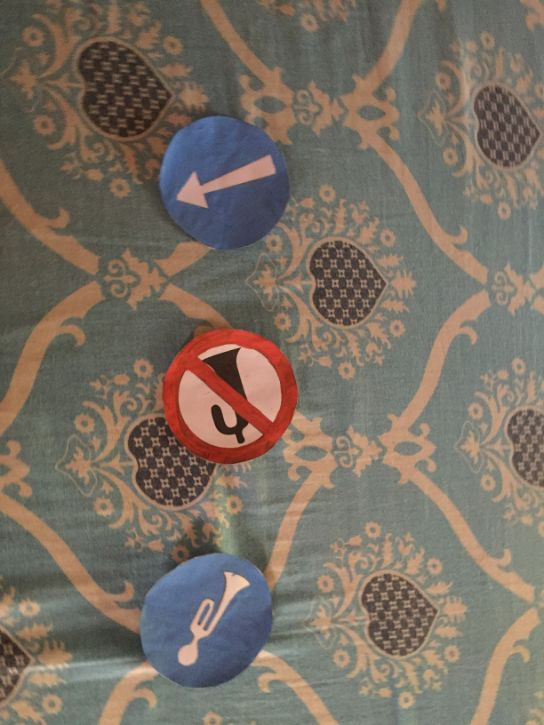blow-horn: (139, 549, 274, 693)
keep-left: (157, 114, 294, 252)
no-horn: (163, 325, 299, 466)
